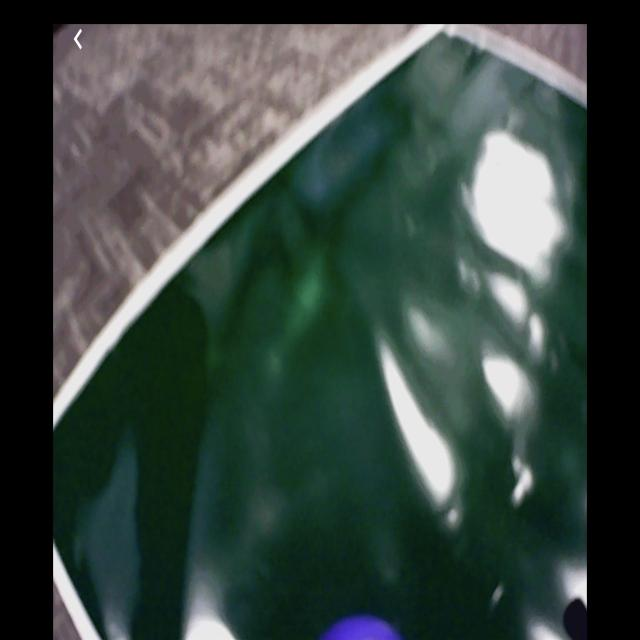ball: (328, 613, 400, 640)
